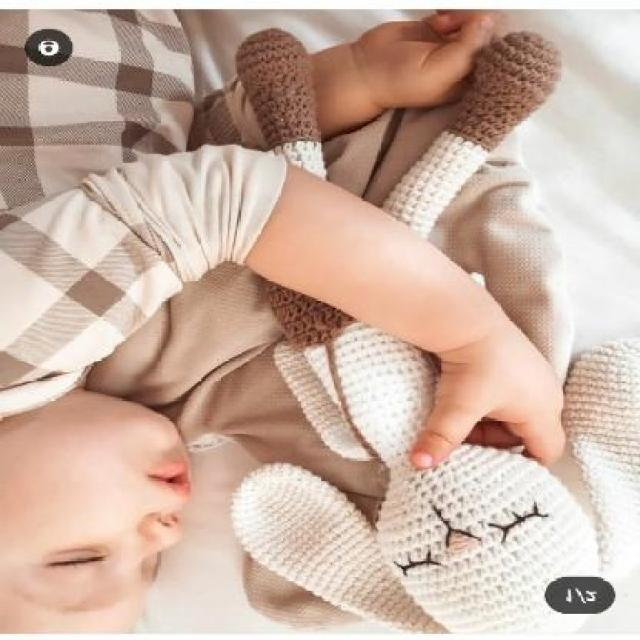child: (2, 2, 207, 633)
